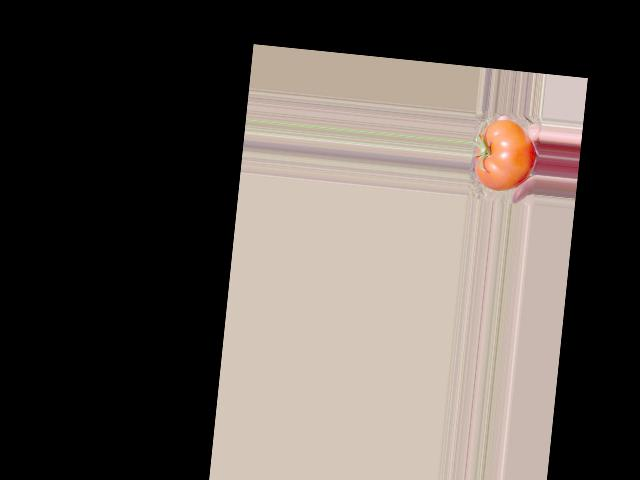tomato: (472, 117, 539, 192)
